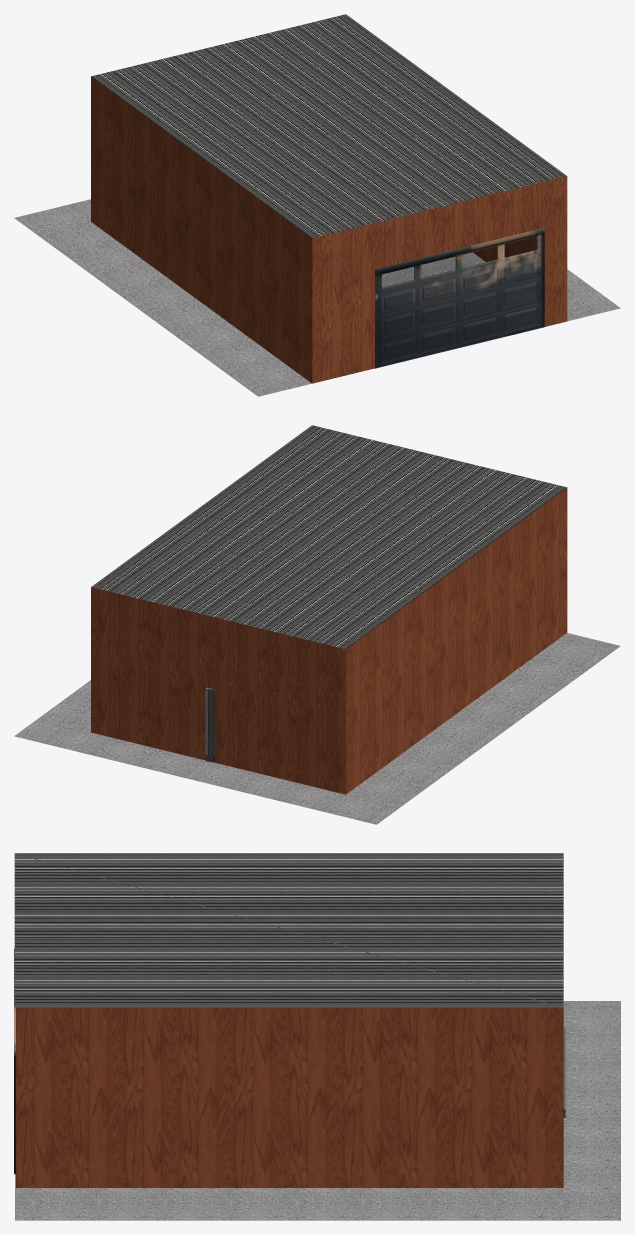
File: shell_lockup.glb
The picture shows the model from 3 angles, top to bottom: view 1: azimuth 30°, elevation 25°; view 2: azimuth 150°, elevation 25°; view 3: azimuth 270°, elevation 25°; orthographic projection. The views are drawn at different scales.
Parts seen in each view (by area): view 1: Roof, Walls, Door, Floor, Wall_Front_L, Wall_Front_Top, Wall_Front_R, Wall_Back; view 2: Walls, Roof, Floor, Cube_Material_0; view 3: Wall_Back, Roof, Floor.
Part boxes in pixels (bbox=[...]): Roof: bbox=[91, 14, 566, 238]; Walls: bbox=[91, 76, 312, 383]; Door: bbox=[375, 228, 544, 368]; Floor: bbox=[14, 199, 620, 396]; Wall_Front_L: bbox=[312, 223, 374, 383]; Wall_Front_Top: bbox=[375, 181, 544, 268]; Wall_Front_R: bbox=[544, 176, 567, 326]; Wall_Back: bbox=[473, 237, 536, 261]; Walls: bbox=[91, 488, 566, 794]; Roof: bbox=[91, 425, 566, 649]; Floor: bbox=[14, 633, 620, 824]; Cube_Material_0: bbox=[205, 687, 214, 762]; Wall_Back: bbox=[16, 1007, 563, 1187]; Roof: bbox=[14, 853, 563, 1007]; Floor: bbox=[15, 1001, 620, 1220].
Bounding box in the file's own units: 11.8 × 4.53 × 13.79.
33 materials, 23 textured.
